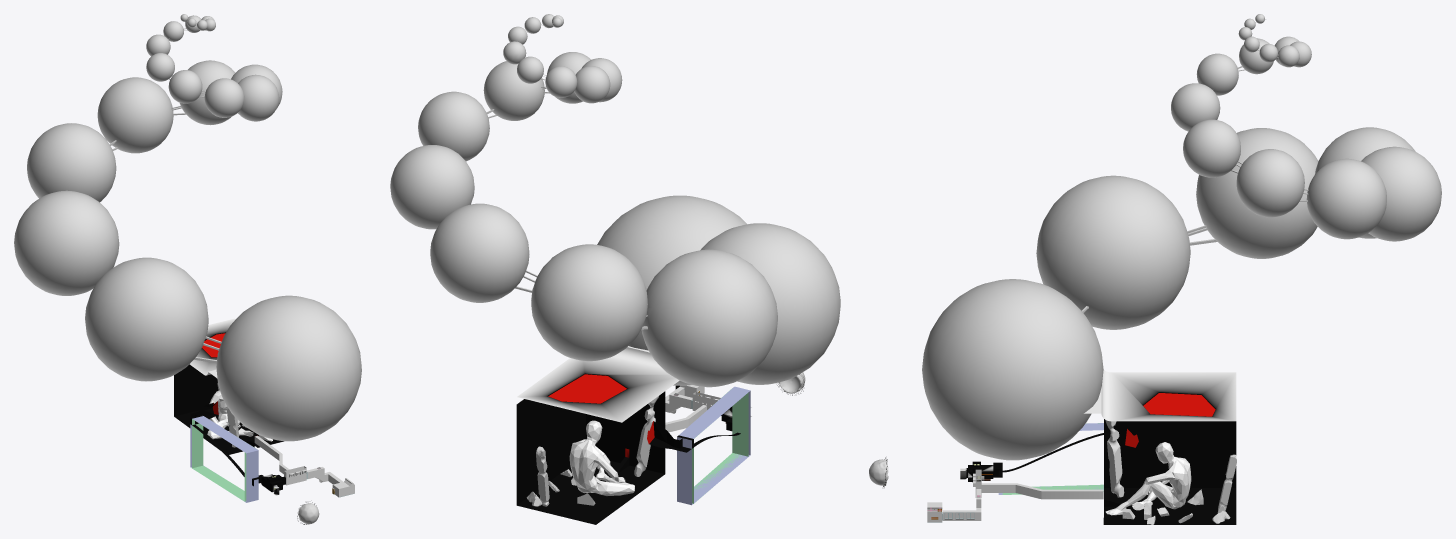
Rendered from atomize.342b0f02.glb.
The picture shows the model from 3 angles, left to right: view 1: azimuth 30°, elevation 25°; view 2: azimuth 150°, elevation 25°; view 3: azimuth 270°, elevation 25°; orthographic projection. The views are drawn at different scales.
Parts seen in each view (by area): view 1: pbr-sphere, ocean-room, cloudhall-outer, cloudhall-inner, shell, pbr-roof, man; view 2: pbr-sphere, ocean-room, pbr-roof, cloudhall-outer, man, columns, glass, cloudhall-inner, shell; view 3: pbr-sphere, ocean-room, pbr-roof, man, columns, glass, scribble-hall, shell.
Boxes of the visible parts, left/top/right/bottom form: pbr-sphere: left=14, top=14, right=361, bottom=441; ocean-room: left=174, top=332, right=283, bottom=454; cloudhall-outer: left=190, top=416, right=258, bottom=502; cloudhall-inner: left=192, top=419, right=254, bottom=501; shell: left=284, top=466, right=354, bottom=497; pbr-roof: left=189, top=318, right=235, bottom=378; man: left=207, top=390, right=272, bottom=441; pbr-sphere: left=390, top=14, right=840, bottom=387; ocean-room: left=516, top=373, right=665, bottom=524; pbr-roof: left=517, top=346, right=679, bottom=422; cloudhall-outer: left=677, top=386, right=750, bottom=505; man: left=569, top=420, right=634, bottom=495; columns: left=526, top=396, right=658, bottom=506; glass: left=548, top=374, right=654, bottom=457; cloudhall-inner: left=692, top=388, right=748, bottom=503; shell: left=665, top=385, right=720, bottom=412; pbr-sphere: left=922, top=14, right=1441, bottom=460; ocean-room: left=1103, top=392, right=1236, bottom=524; pbr-roof: left=1084, top=370, right=1236, bottom=421; man: left=1105, top=442, right=1191, bottom=515; columns: left=1105, top=419, right=1236, bottom=524; glass: left=1125, top=393, right=1215, bottom=447; scribble-hall: left=981, top=483, right=1103, bottom=499; shell: left=927, top=469, right=981, bottom=522.
Size of what is drawn, in the model's own units: 101 by 148 by 154.
